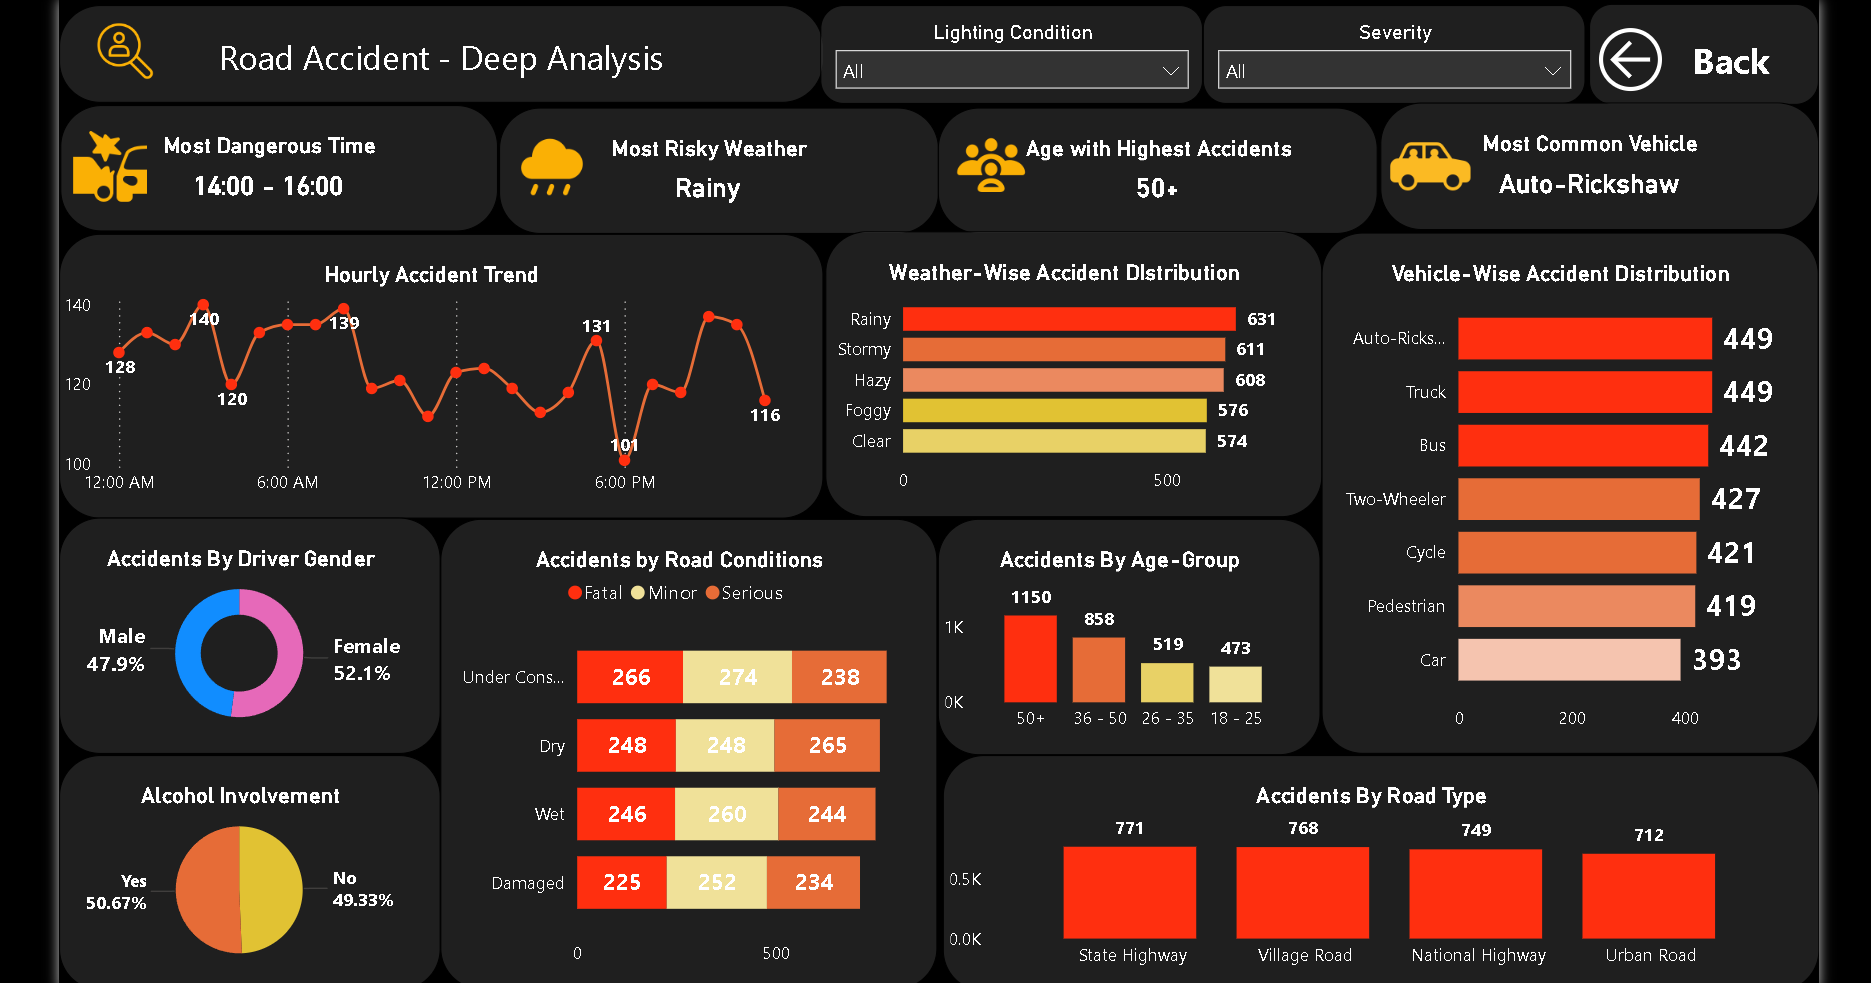

This screenshot's page, from the dashboard's own definition file:
{"tool":"powerbi","page":{"name":"Deeper Details","canvas":[1280,720],"ordinal":1},"visuals":[{"type":"card","title":"Most Dangerous Time","fields":{"Values":["accident(18-23).peak_acct_time"]},"box":[1.2,76.7,318.6,91.9],"z":0},{"type":"textbox","box":[0,3.8,556.2,71.2],"z":1000},{"type":"image","box":[11.2,12.5,75,48.8],"z":2000},{"type":"actionButton","box":[1112.5,2.5,167.5,73.8],"z":3000},{"type":"image","box":[0,91.9,74.4,58.1],"z":4000},{"type":"lineChart","title":"Hourly Accident Trend","fields":{"Category":["accident(18-23).Start of Hour"],"Y":["CountNonNull(accident(18-23).Index)"]},"box":[0,169.8,555.8,207],"z":5000},{"type":"pieChart","title":"Alcohol Involvement","fields":{"Series":["accident(18-23).Alcohol Involvement"],"Y":["CountNonNull(accident(18-23).Index)"]},"box":[0,548.8,277.9,170.9],"z":6000},{"type":"donutChart","title":"Accidents By Driver Gender","fields":{"Series":["accident(18-23).Driver Gender"],"Y":["CountNonNull(accident(18-23).Index)"]},"box":[0,376.7,277.9,172.1],"z":7000},{"type":"card","title":"Most Risky Weather","fields":{"Values":["accident(18-23).top_acct_weather"]},"box":[319.8,77.9,319.8,91.9],"z":8000},{"type":"image","box":[319.8,91.9,76.7,58.1],"z":9000},{"type":"card","title":"Age with Highest Accidents","fields":{"Values":["accident(18-23).top_acct_age"]},"box":[639.5,77.9,319.8,91.9],"z":10000},{"type":"image","box":[639.5,91.9,77.9,58.1],"z":11000},{"type":"image","box":[968.6,91.9,58.1,58.1],"z":12000},{"type":"barChart","title":"Weather-Wise Accident DIstribution","fields":{"Category":["accident(18-23).Weather Conditions"],"Y":["CountNonNull(accident(18-23).Index)"]},"box":[557.1,168.1,361.4,207.7],"z":13000},{"type":"barChart","title":"Vehicle-Wise Accident Distribution","fields":{"Category":["accident(18-23).Vehicle Type Involved"],"Y":["CountNonNull(accident(18-23).Index)"]},"box":[918.6,169.3,361.4,379.4],"z":14000},{"type":"columnChart","title":"Accidents By Age-Group","fields":{"Category":["accident(18-23).age_group"],"Y":["CountNonNull(accident(18-23).Index)"]},"box":[638.8,377,278.6,171.7],"z":15000},{"type":"columnChart","title":"Accidents By Road Type","fields":{"Category":["accident(18-23).Road Type"],"Y":["CountNonNull(accident(18-23).Index)"]},"box":[642.4,548.7,637.6,171.7],"z":16000},{"type":"barChart","title":"Accidents by Road Conditions","fields":{"Category":["accident(18-23).Road Condition"],"Series":["accident(18-23).Accident Severity"],"Y":["CountNonNull(accident(18-23).Index)"]},"box":[277.4,377,361.4,342.2],"z":17000},{"type":"slicer","title":"Lighting Condition","fields":{"Values":["accident(18-23).Lighting Conditions"]},"box":[553.5,3.6,278.6,72],"z":18000},{"type":"slicer","title":"Severity","fields":{"Values":["accident(18-23).Accident Severity"]},"box":[832.1,3.6,278.6,72],"z":19000},{"type":"card","title":"Most Common Vehicle","fields":{"Values":["accident(18-23).top_acct_vehicle"]},"box":[960.6,74.4,319.4,92.5],"z":20000}]}

Visuals, with their boxes on the page's 1280x720 design canvas (x1, y1, x2, y2). These are canvas units, not pixel positions in the 1871x983 screenshot, which may show the page scaled, cropped or inside an application window:
"Most Dangerous Time" card: locate(1, 77, 320, 169)
textbox: locate(0, 4, 556, 75)
image: locate(11, 12, 86, 61)
actionButton: locate(1112, 2, 1280, 76)
image: locate(0, 92, 74, 150)
"Hourly Accident Trend" lineChart: locate(0, 170, 556, 377)
"Alcohol Involvement" pieChart: locate(0, 549, 278, 720)
"Accidents By Driver Gender" donutChart: locate(0, 377, 278, 549)
"Most Risky Weather" card: locate(320, 78, 640, 170)
image: locate(320, 92, 396, 150)
"Age with Highest Accidents" card: locate(640, 78, 959, 170)
image: locate(640, 92, 717, 150)
image: locate(969, 92, 1027, 150)
"Weather-Wise Accident DIstribution" barChart: locate(557, 168, 918, 376)
"Vehicle-Wise Accident Distribution" barChart: locate(919, 169, 1280, 549)
"Accidents By Age-Group" columnChart: locate(639, 377, 917, 549)
"Accidents By Road Type" columnChart: locate(642, 549, 1280, 720)
"Accidents by Road Conditions" barChart: locate(277, 377, 639, 719)
"Lighting Condition" slicer: locate(554, 4, 832, 76)
"Severity" slicer: locate(832, 4, 1111, 76)
"Most Common Vehicle" card: locate(961, 74, 1280, 167)
